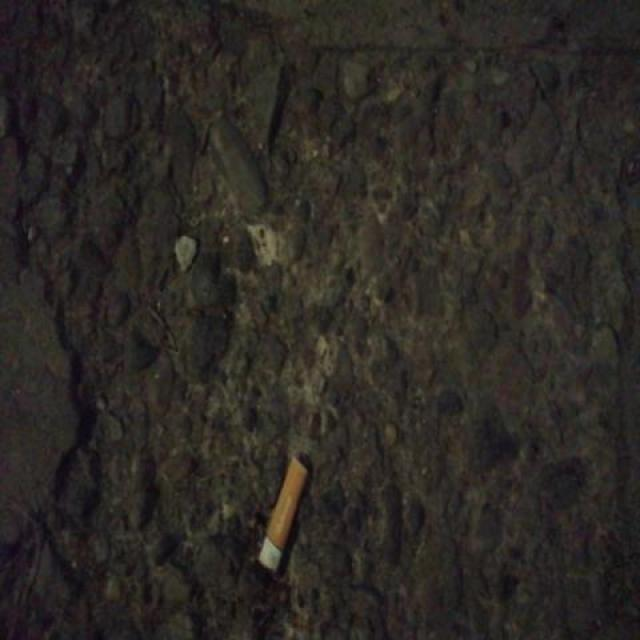non-organic waste: (254, 449, 310, 576)
